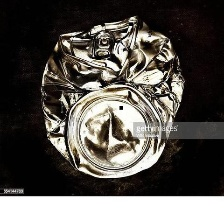can: (38, 13, 187, 179)
